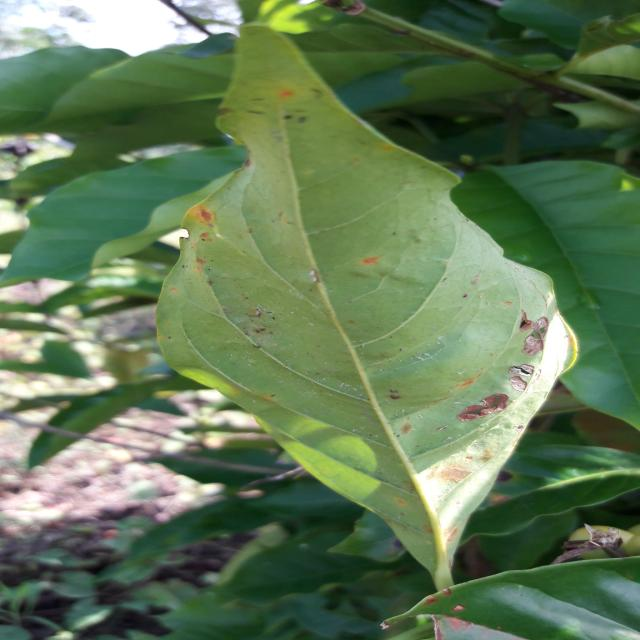Plaga-AranaRoja: (156, 22, 581, 595)
